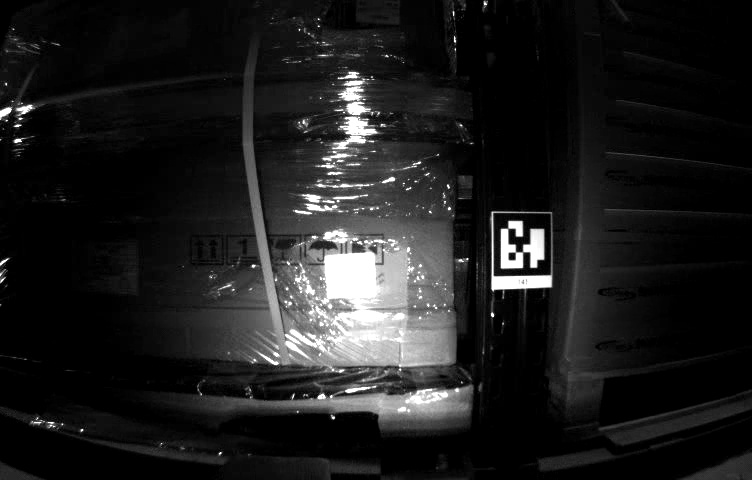True Barcode: (324, 253, 378, 299)
